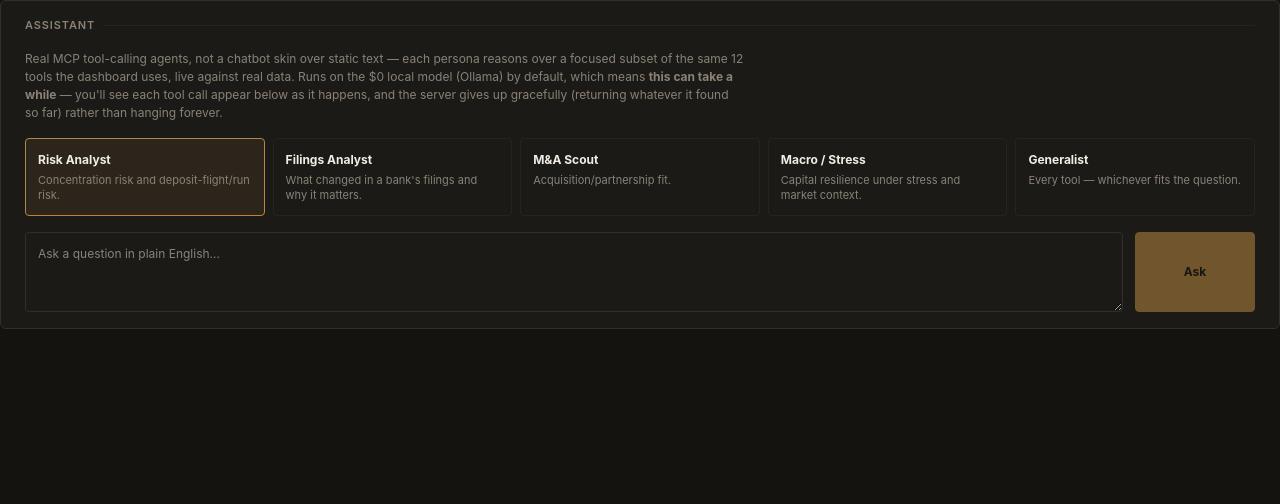
AssistantPage › shows a partial-answer banner when the server deadline was reached
The width and height of the screenshot is (1280, 504).
Type "slow question" into the text box with placeholder "Ask a question in plain English…" at (574, 272), box top-left (25, 232), bottom-right (1123, 312)
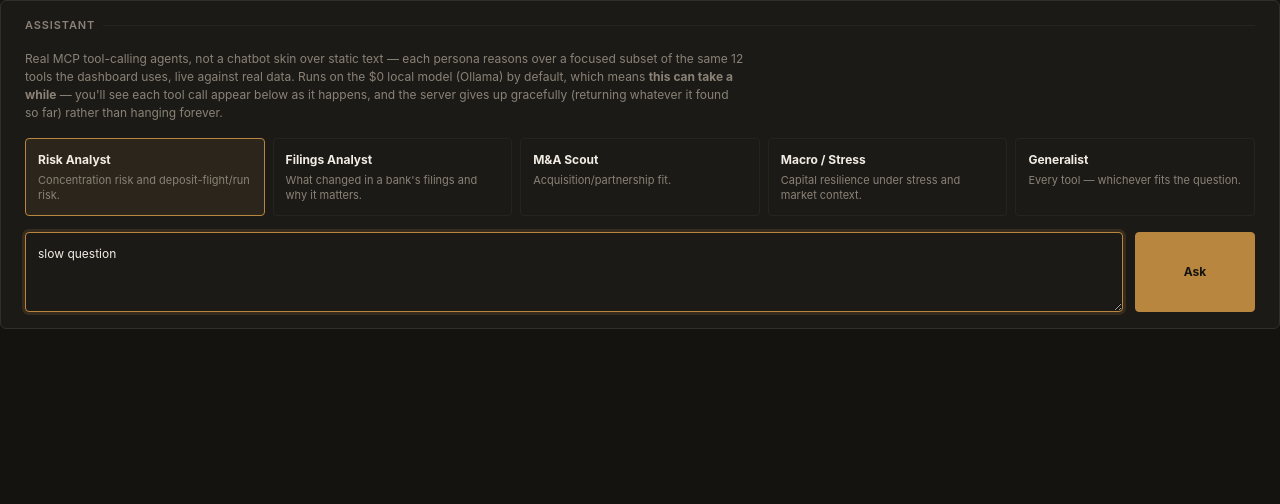
Click the button "Ask" at (1195, 272), box top-left (1135, 232), bottom-right (1255, 312)
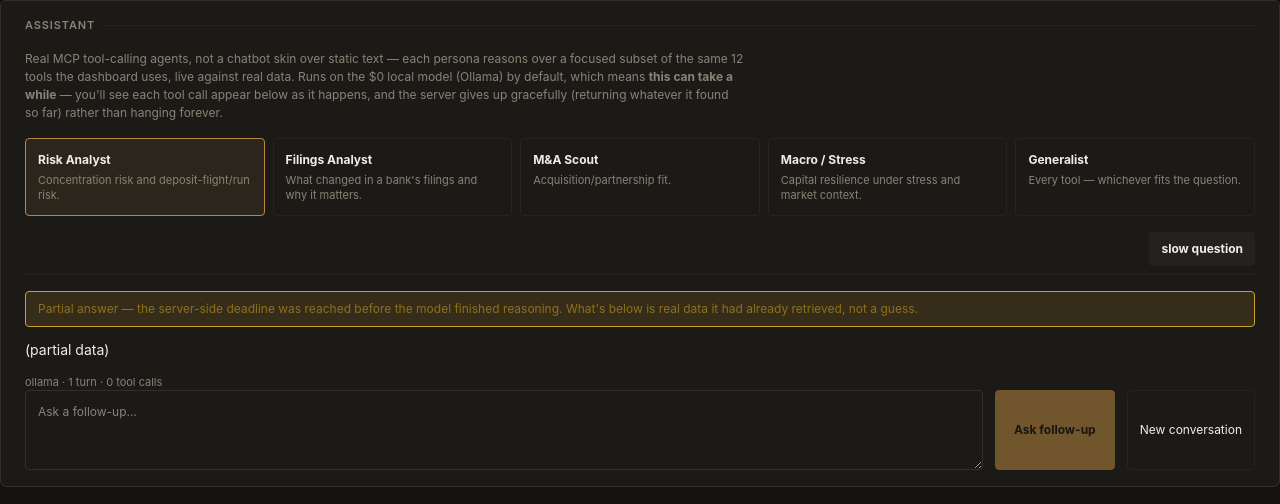
Expected: the text "Partial answer" is shown, top-left (38, 301), bottom-right (918, 316)
Expected: the text "(partial data)" is shown, top-left (25, 341), bottom-right (109, 358)
